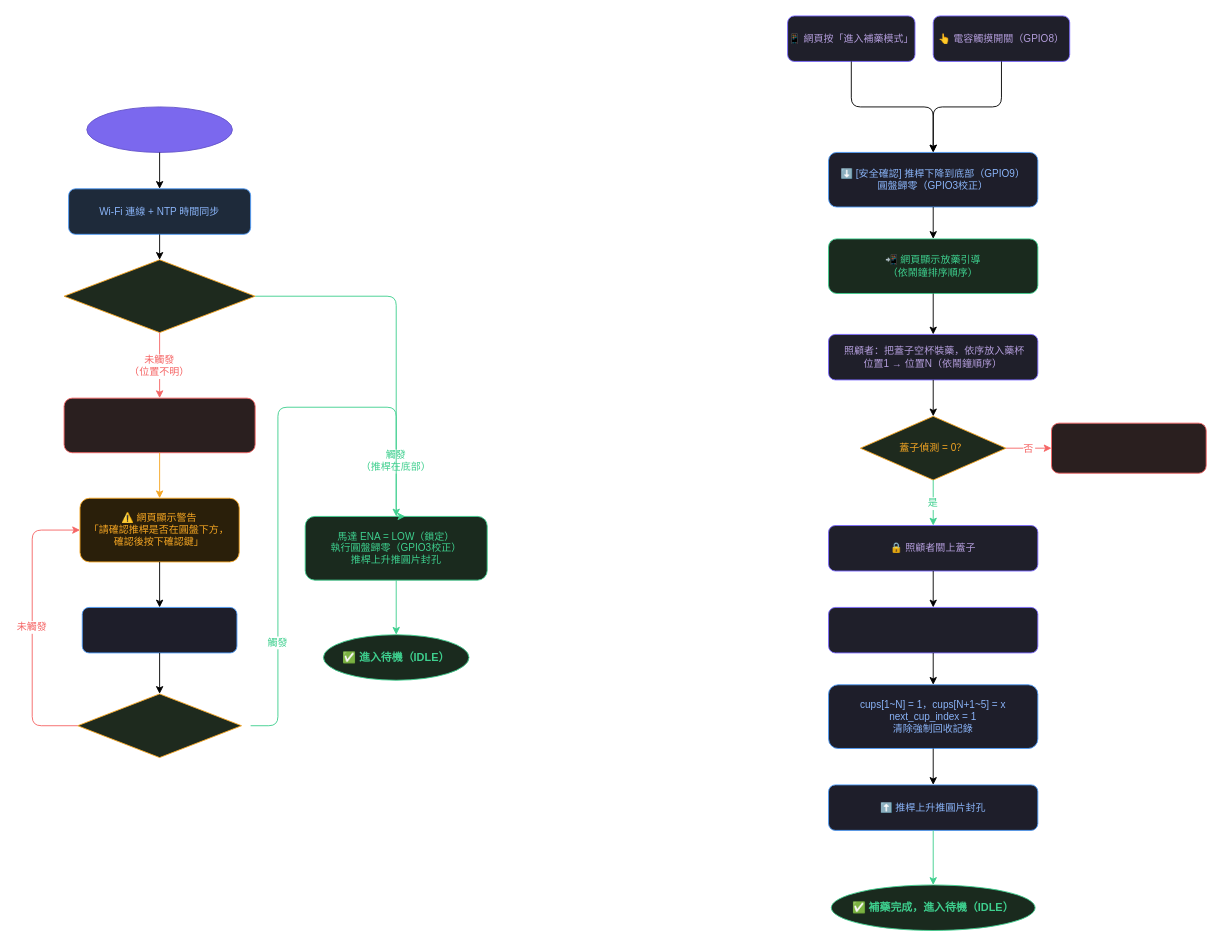
Some shapes in this 1222 by 946 pixel diagram are drawn without their labels. The shapes that lost their labels are listed below. From the top down, each one's box as (x1, y1, x2, y2) in pixels, then its label:
(86, 106, 232, 152): 🔌 開機
(63, 259, 255, 333): 讀取 GPIO9 （推桿底部感測器）
(63, 397, 255, 453): 推桿馬達 ENA = HIGH（釋放） LED 閃爍 + 音效警示
(1051, 422, 1206, 473): ⚠️ 網頁提示 「還有空杯未收走」
(81, 607, 237, 653): 等待網頁確認鍵
(828, 607, 1038, 653): ✅ 按下網頁「補藥完成」
(77, 693, 242, 758): 再次讀取 GPIO9
